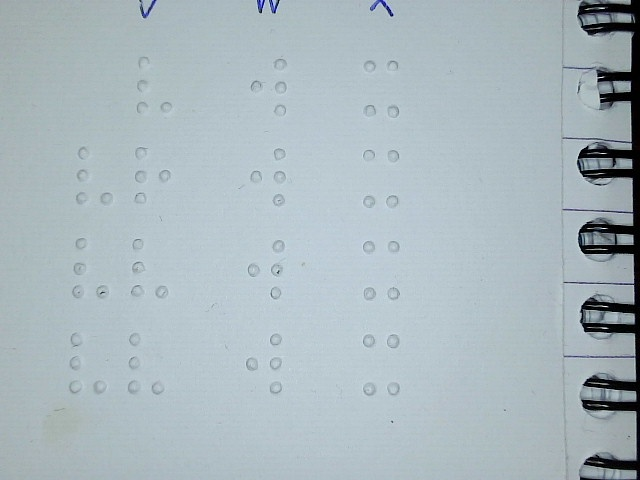V: (67, 330, 108, 394), (125, 331, 166, 395), (135, 53, 174, 114), (75, 145, 114, 206)
W: (245, 331, 283, 394), (249, 56, 288, 117), (248, 146, 287, 207), (246, 238, 285, 299)
X: (362, 238, 401, 301), (362, 332, 401, 395), (362, 57, 401, 118), (362, 147, 401, 208)
